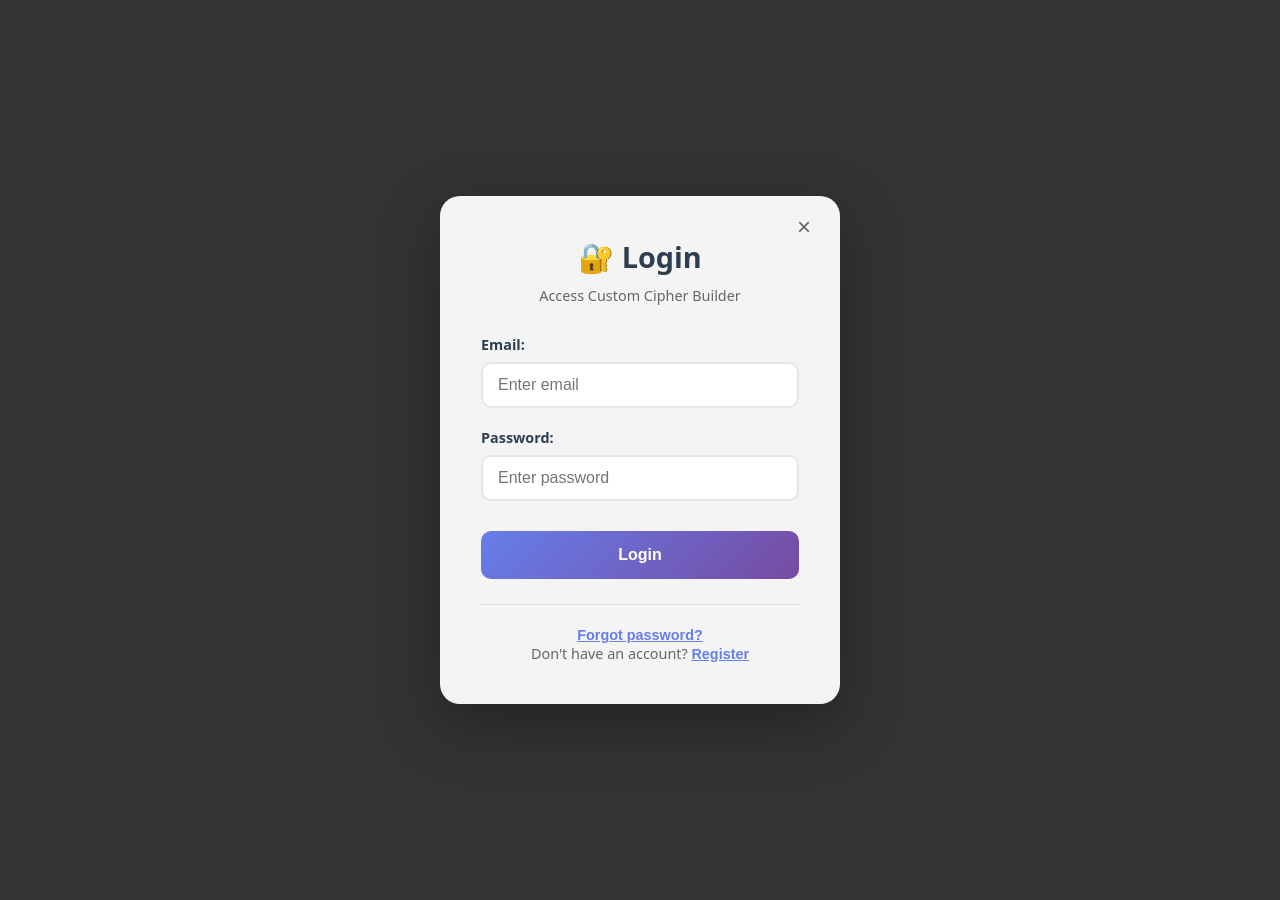
Test: Login › toggles to Register and shows Username field
Check: the field with placeholder "enter username" is not shown
Click the button "Register" at {"x": 720, "y": 654}, box x1=692 y1=646 x2=749 y2=662
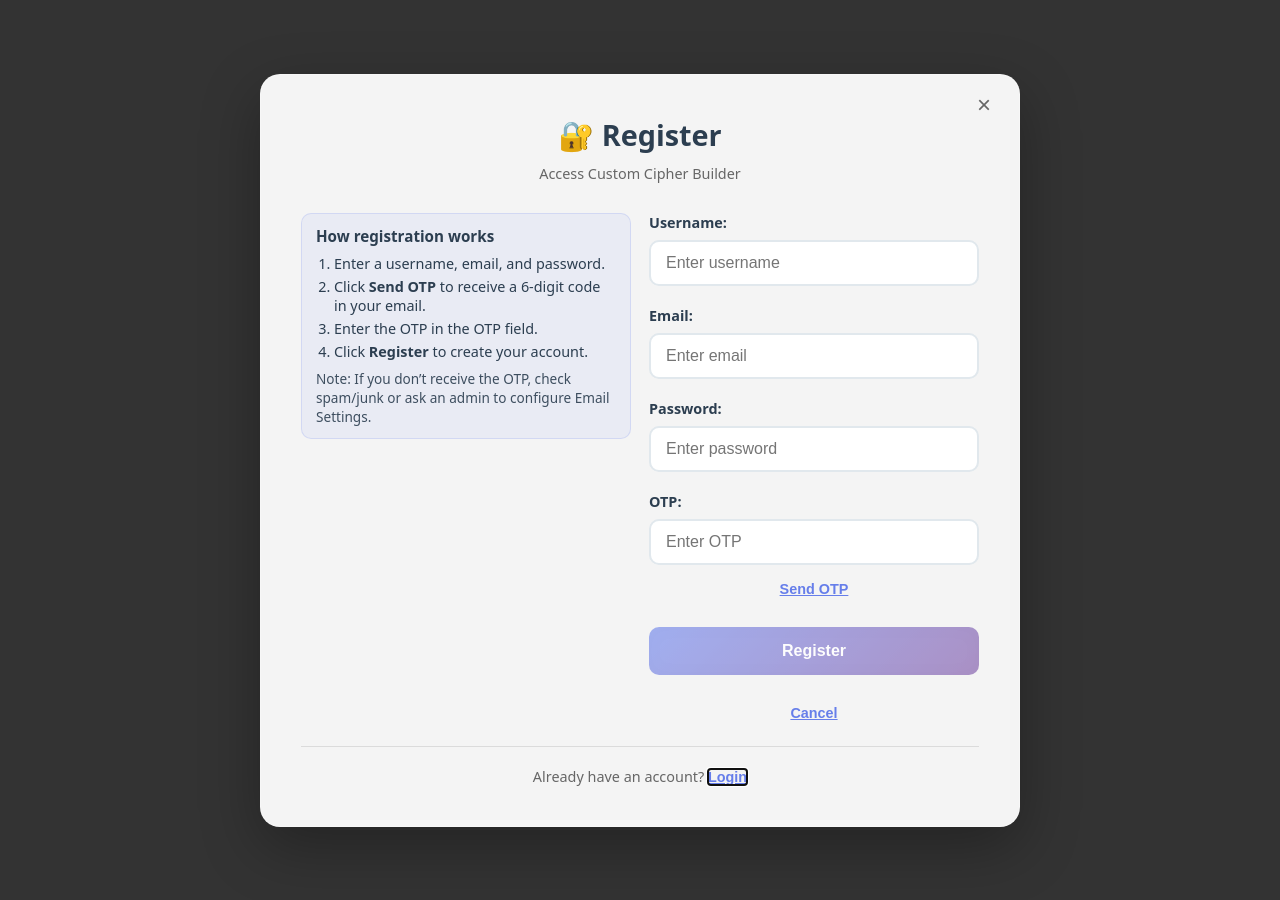
Check: the field with placeholder "Enter username" is shown, box x1=649 y1=240 x2=979 y2=286
